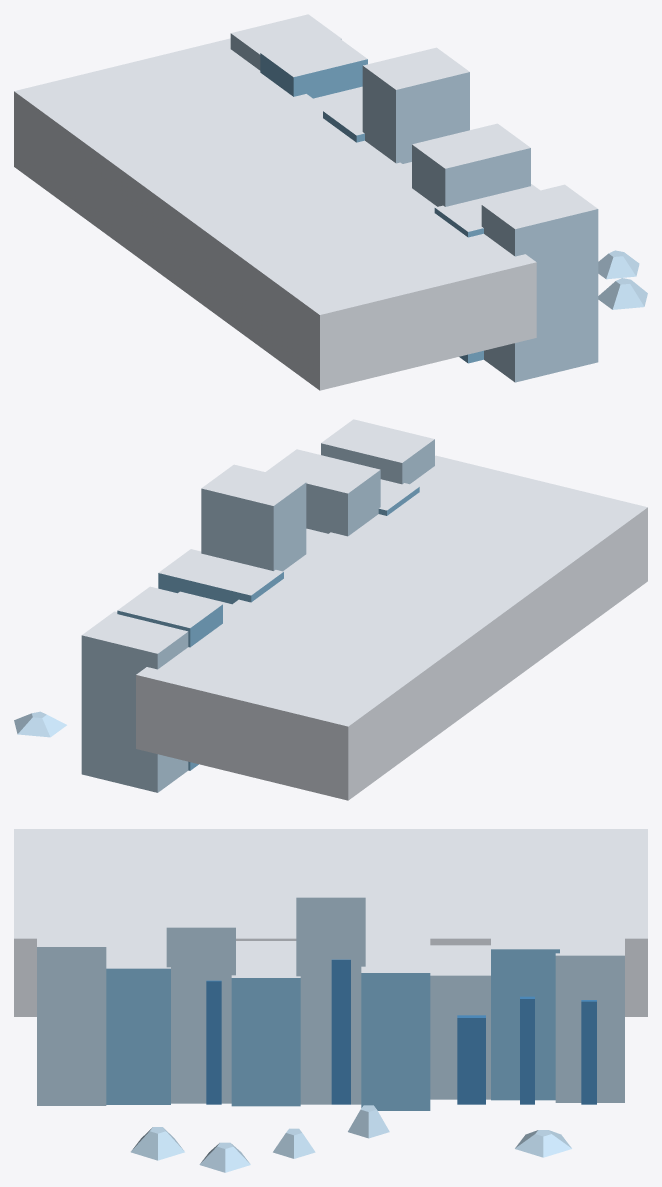
Rendered from glaciar_frente.obj.
3 renders of one model, top to bottom at view 1: azimuth 30°, elevation 25°; view 2: azimuth 150°, elevation 25°; view 3: azimuth 270°, elevation 25°, orthographic. The views are drawn at different scales.
Visible parts, largest first — view 1: glaciar_frente; view 2: glaciar_frente; view 3: glaciar_frente.
Part boxes in pixels (left/top/right/bottom): glaciar_frente: left=14, top=14, right=647, bottom=390; glaciar_frente: left=14, top=419, right=647, bottom=800; glaciar_frente: left=14, top=829, right=647, bottom=1172.
Bounding box in the file's own units: 35.02 × 15.83 × 44.
